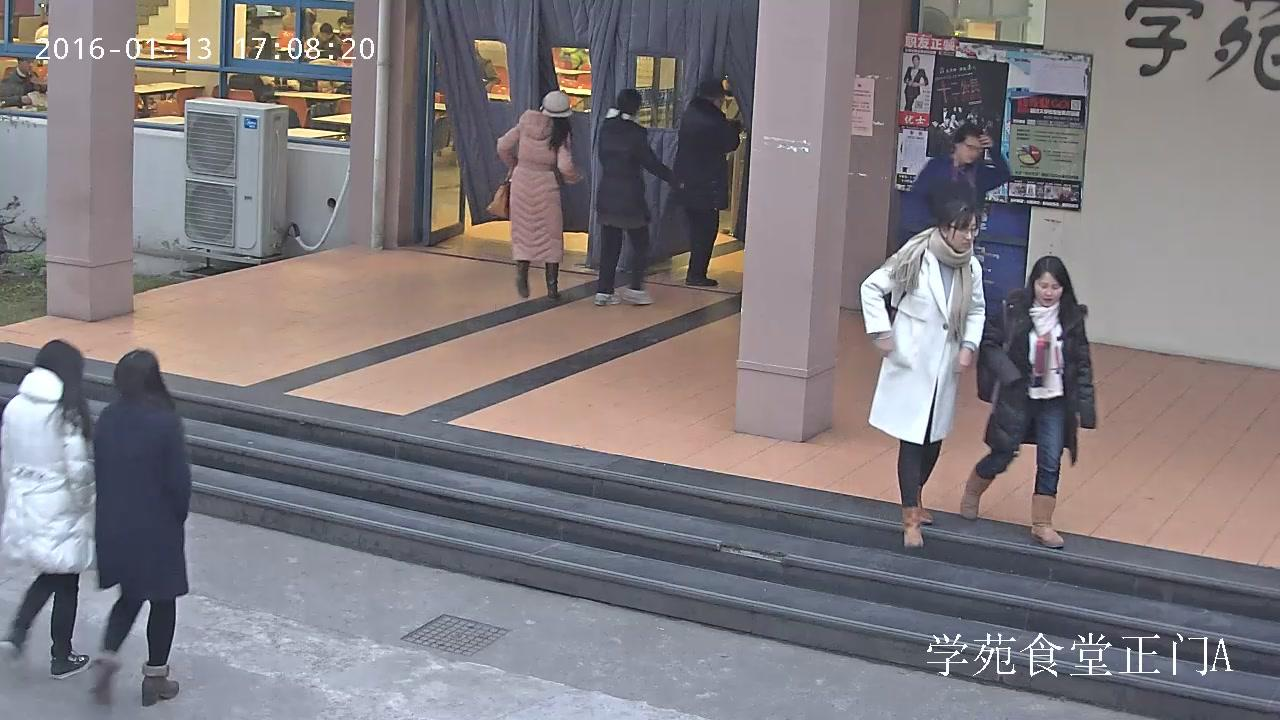person: (860, 197, 986, 549), (960, 256, 1096, 546), (86, 350, 190, 706), (0, 339, 94, 679), (486, 90, 583, 299), (593, 88, 673, 305), (669, 79, 740, 286), (897, 122, 1010, 248), (0, 57, 47, 108), (305, 22, 343, 59), (903, 55, 927, 111)
